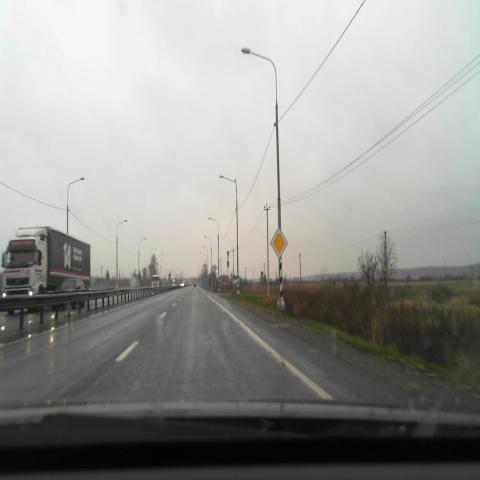2_1: (270, 227, 288, 259)
